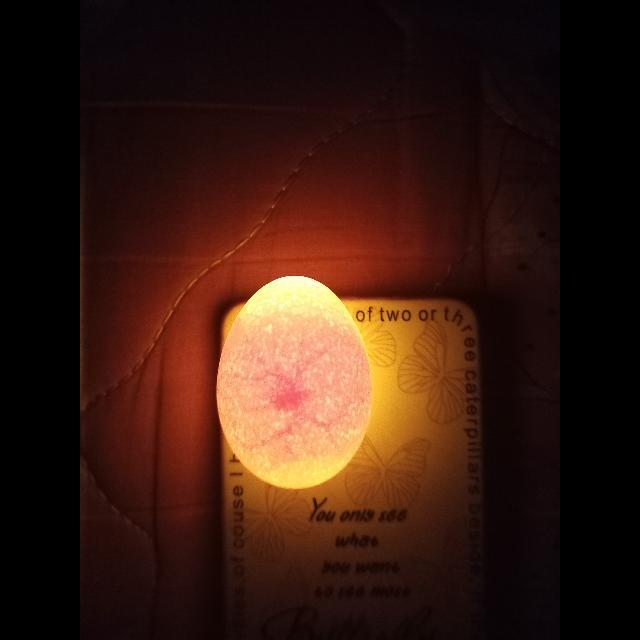Fertile: (216, 277, 372, 489)
